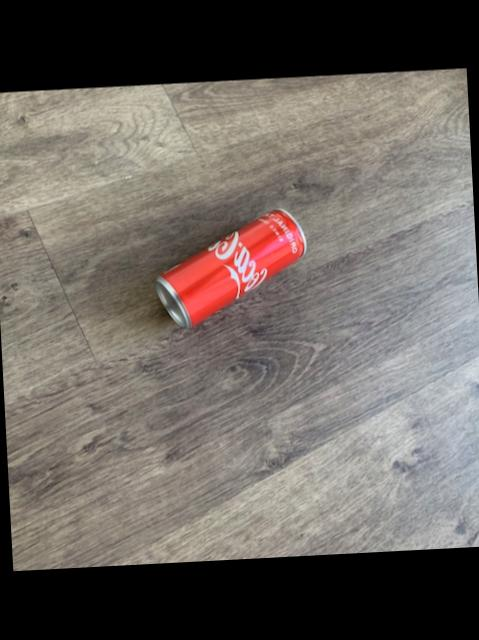metal: (153, 209, 302, 327)
